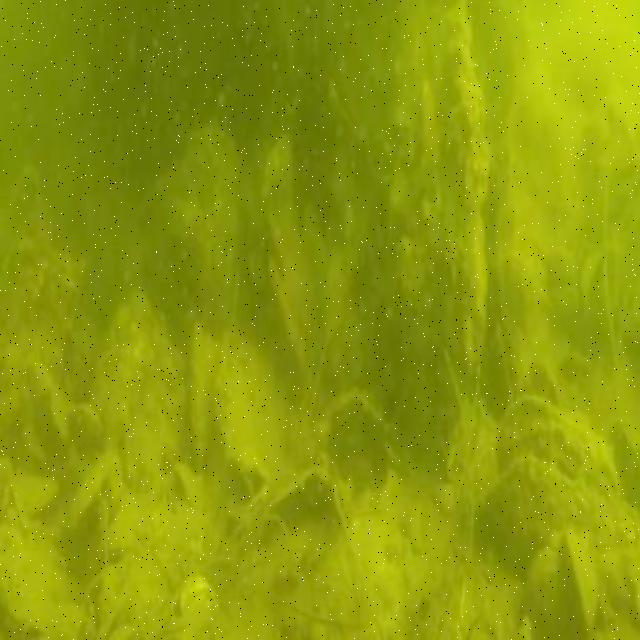Oyster-Closed: (468, 461, 640, 627), (494, 397, 617, 502), (214, 332, 295, 487), (325, 385, 392, 491), (187, 312, 215, 485)
